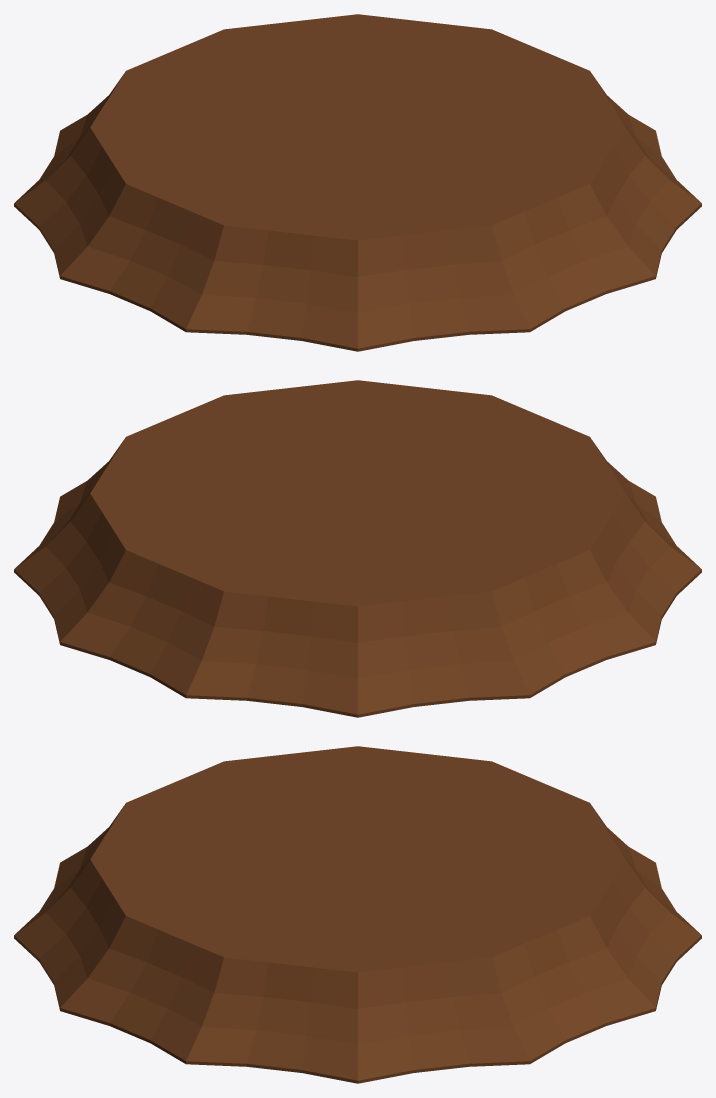
The model's file is Dach_12_komplett.fbx.
3 views of the same model, one above another, from view 1: azimuth 30°, elevation 25°; view 2: azimuth 150°, elevation 25°; view 3: azimuth 270°, elevation 25° (orthographic).
Visible parts, largest first — view 1: Dach_12_komplett; view 2: Dach_12_komplett; view 3: Dach_12_komplett.
Part boxes in pixels (<box>): Dach_12_komplett: <box>14,14,701,351</box>; Dach_12_komplett: <box>14,380,701,717</box>; Dach_12_komplett: <box>14,746,701,1083</box>.
Bounding box in the file's own units: 2052 × 260 × 2052.
